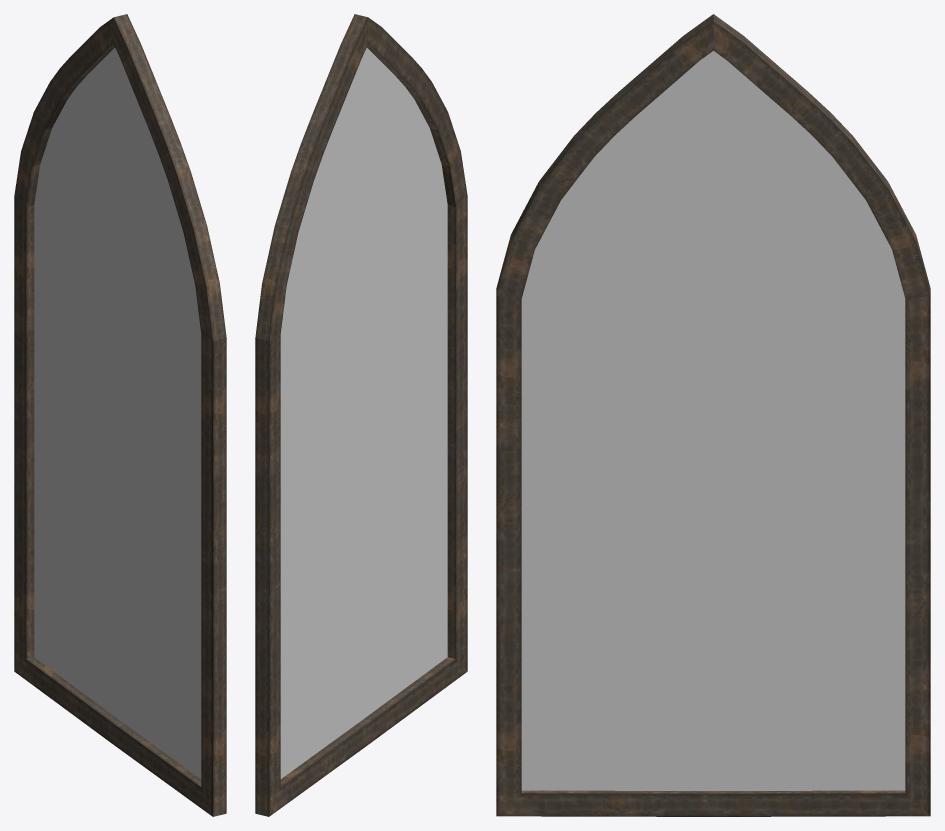
3 renders of one model, left to right at view 1: azimuth 30°, elevation 25°; view 2: azimuth 150°, elevation 25°; view 3: azimuth 270°, elevation 25°, orthographic. The views are drawn at different scales.
Visible parts, largest first — view 1: SM_DR_StainedGlass_02C_LOD0; view 2: SM_DR_StainedGlass_02C_LOD0; view 3: SM_DR_StainedGlass_02C_LOD0.
Part boxes in pixels (x1,y1,x2,y2): SM_DR_StainedGlass_02C_LOD0: [14, 14, 226, 816]; SM_DR_StainedGlass_02C_LOD0: [255, 14, 467, 816]; SM_DR_StainedGlass_02C_LOD0: [496, 14, 930, 816].
Size of the model in its own units: 0.1536 by 7.84 by 3.88.
Materials: 2 (1 with a texture image).
